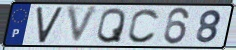6: (162, 7, 190, 46)
8: (195, 8, 222, 45)
C: (127, 7, 162, 44)
Q: (95, 6, 127, 44)
V: (65, 5, 101, 46), (35, 6, 65, 45)
